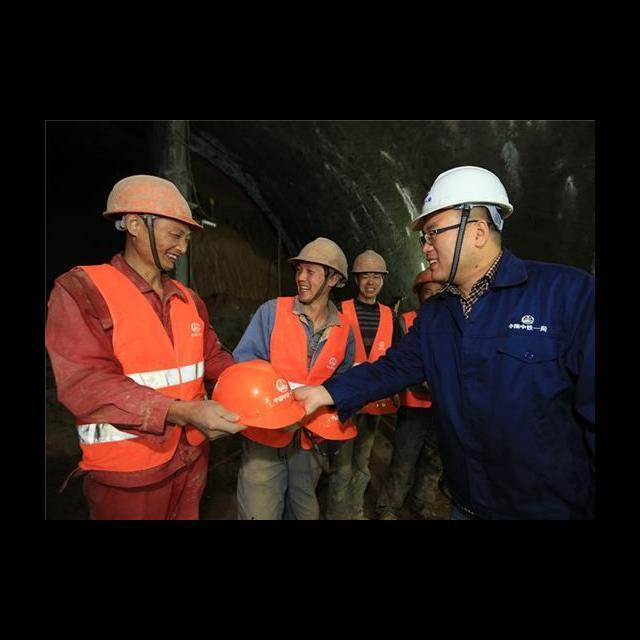Capacete: (410, 166, 512, 230), (212, 359, 304, 428), (103, 175, 202, 229), (288, 237, 347, 287), (303, 407, 356, 439), (352, 249, 388, 273), (412, 269, 432, 293)
Colete: (81, 264, 204, 399), (270, 297, 348, 388), (342, 299, 392, 365), (399, 386, 431, 407)
Pessoa: (294, 166, 594, 518), (46, 175, 243, 519), (237, 416, 343, 519), (376, 383, 440, 519), (325, 397, 395, 519)
